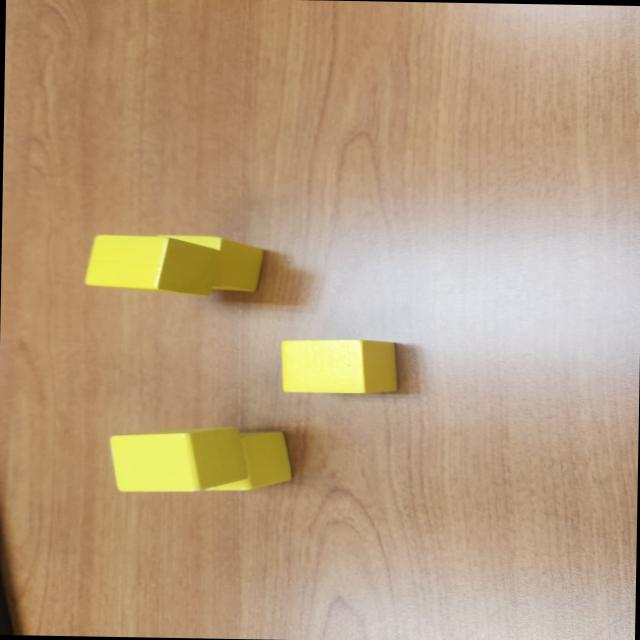yellow: (107, 424, 250, 494), (81, 234, 220, 296), (276, 338, 401, 397), (153, 235, 267, 298), (194, 428, 296, 492)
